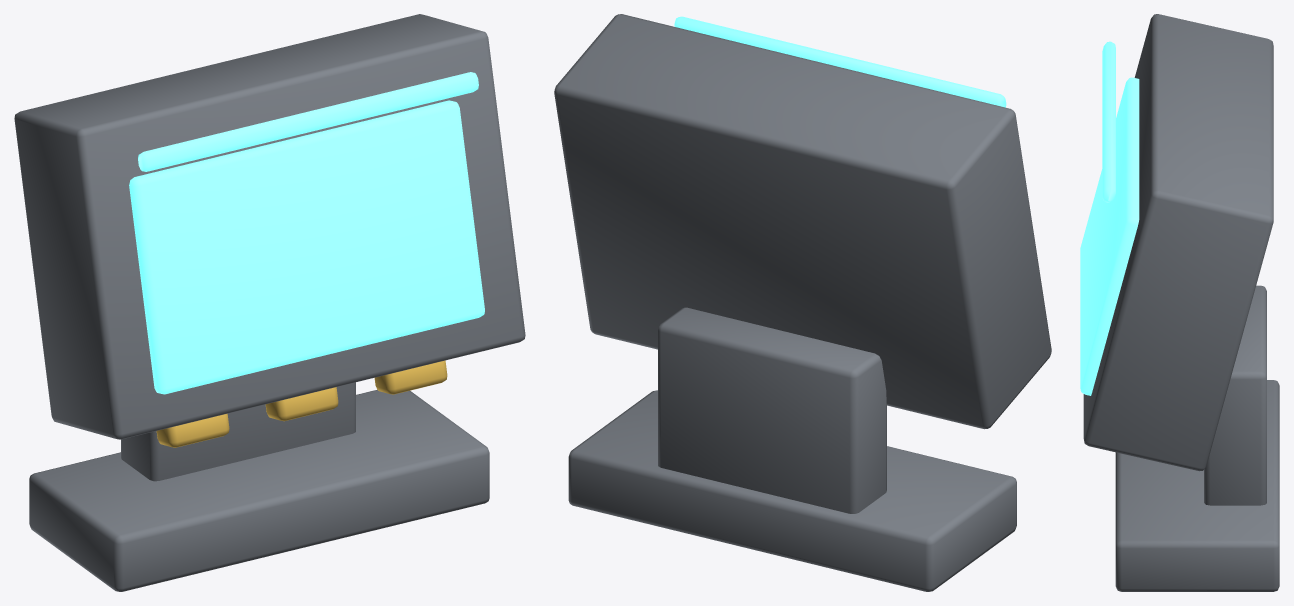
Rendered from console.glb.
3 renders of one model, left to right at view 1: azimuth 30°, elevation 25°; view 2: azimuth 150°, elevation 25°; view 3: azimuth 270°, elevation 25°, orthographic. The views are drawn at different scales.
Visible parts, largest first — view 1: console; view 2: console; view 3: console.
Boxes of the visible parts, <box> form: console: <box>14,14,525,591</box>; console: <box>554,14,1051,591</box>; console: <box>1080,14,1279,591</box>.
Bounding box in the file's own units: 0.68 × 0.7149 × 0.3158.
